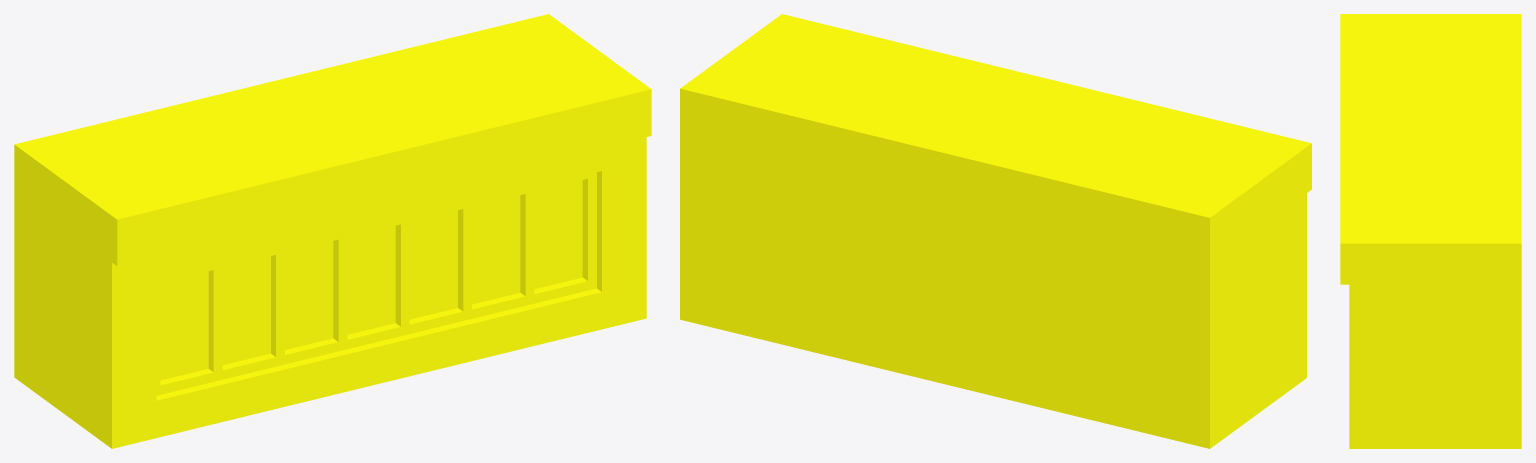
Rendered from BuildingBlock_2.glb.
3 views of the same model, side by side, from view 1: azimuth 30°, elevation 25°; view 2: azimuth 150°, elevation 25°; view 3: azimuth 270°, elevation 25° (orthographic). The views are drawn at different scales.
Visible parts, largest first — view 1: BuildingBlock_2; view 2: BuildingBlock_2; view 3: BuildingBlock_2.
Boxes of the visible parts, box(x1,y1,x2,y2) form: BuildingBlock_2: box(14, 14, 651, 448); BuildingBlock_2: box(680, 14, 1311, 448); BuildingBlock_2: box(1340, 14, 1521, 448).
Size of the model in its own units: 6 by 2.5 by 2.
Materials: 1 (1 with a texture image).
